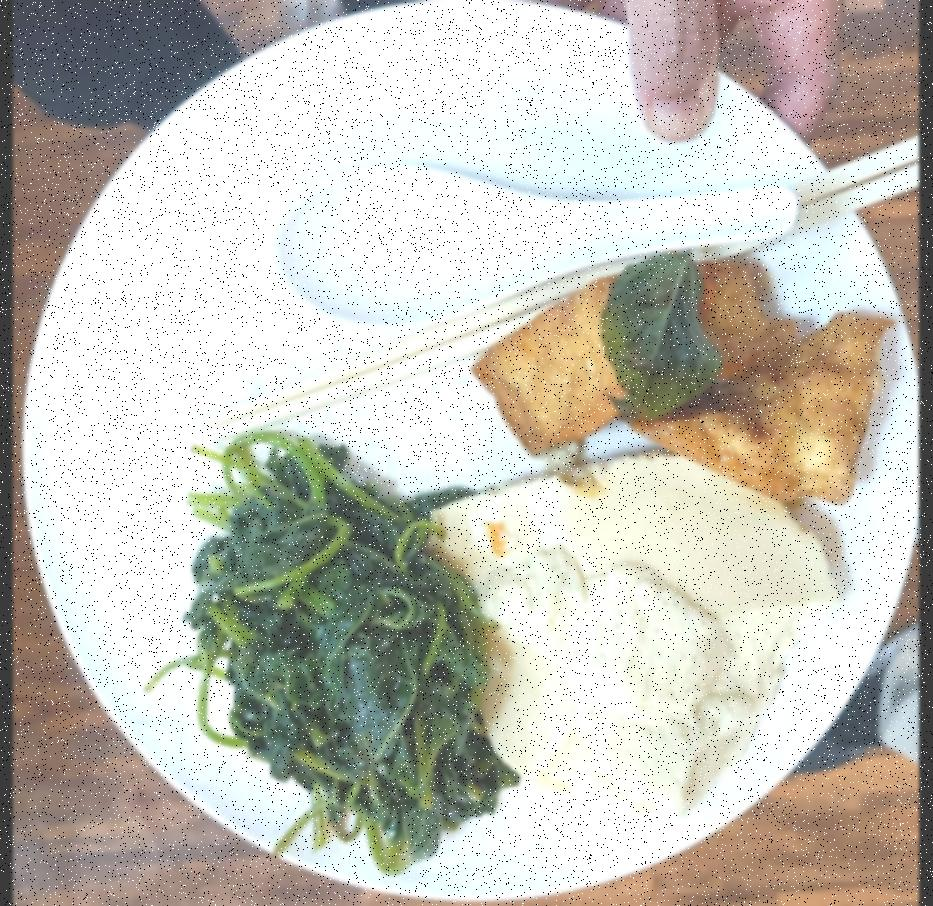big fried chicken leg: (15, 0, 919, 906)
braised fish fillet: (420, 443, 850, 825), (188, 426, 512, 874), (465, 255, 894, 504)
